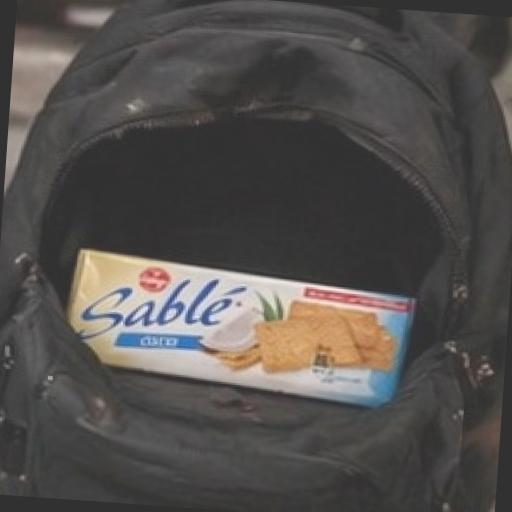sabl: (16, 201, 510, 491)
